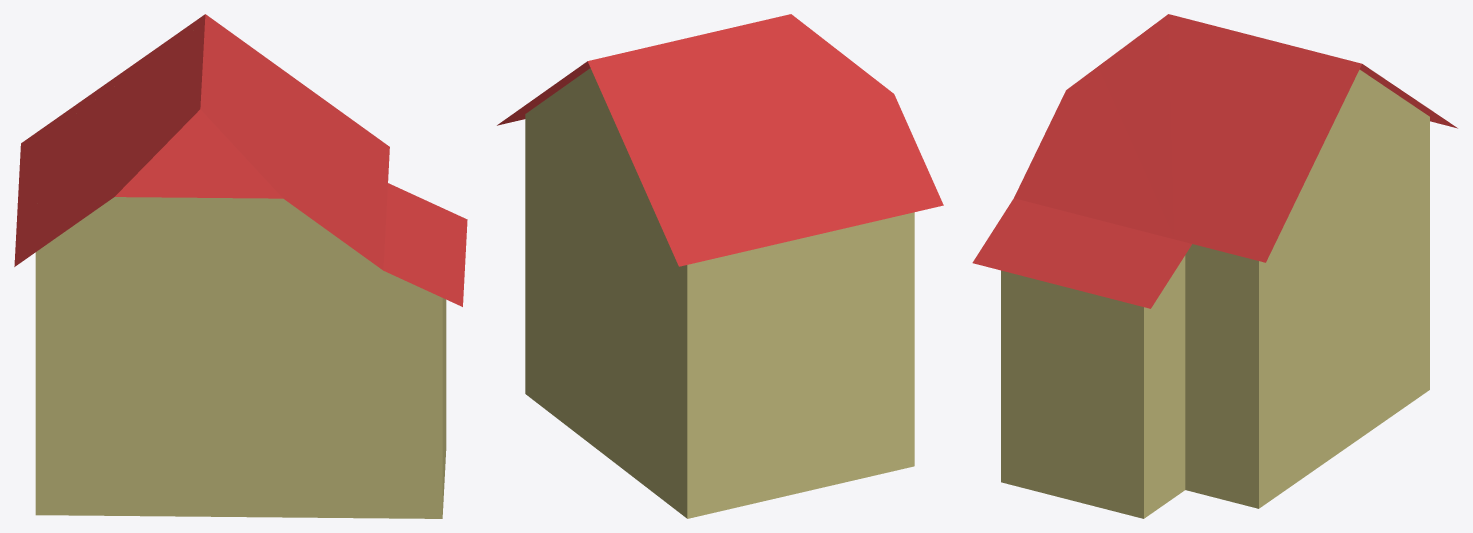
3 renders of one model, left to right at view 1: azimuth 30°, elevation 25°; view 2: azimuth 150°, elevation 25°; view 3: azimuth 270°, elevation 25°, orthographic. The views are drawn at different scales.
Bounding box in the file's own units: 17.7 × 17.41 × 15.42.
